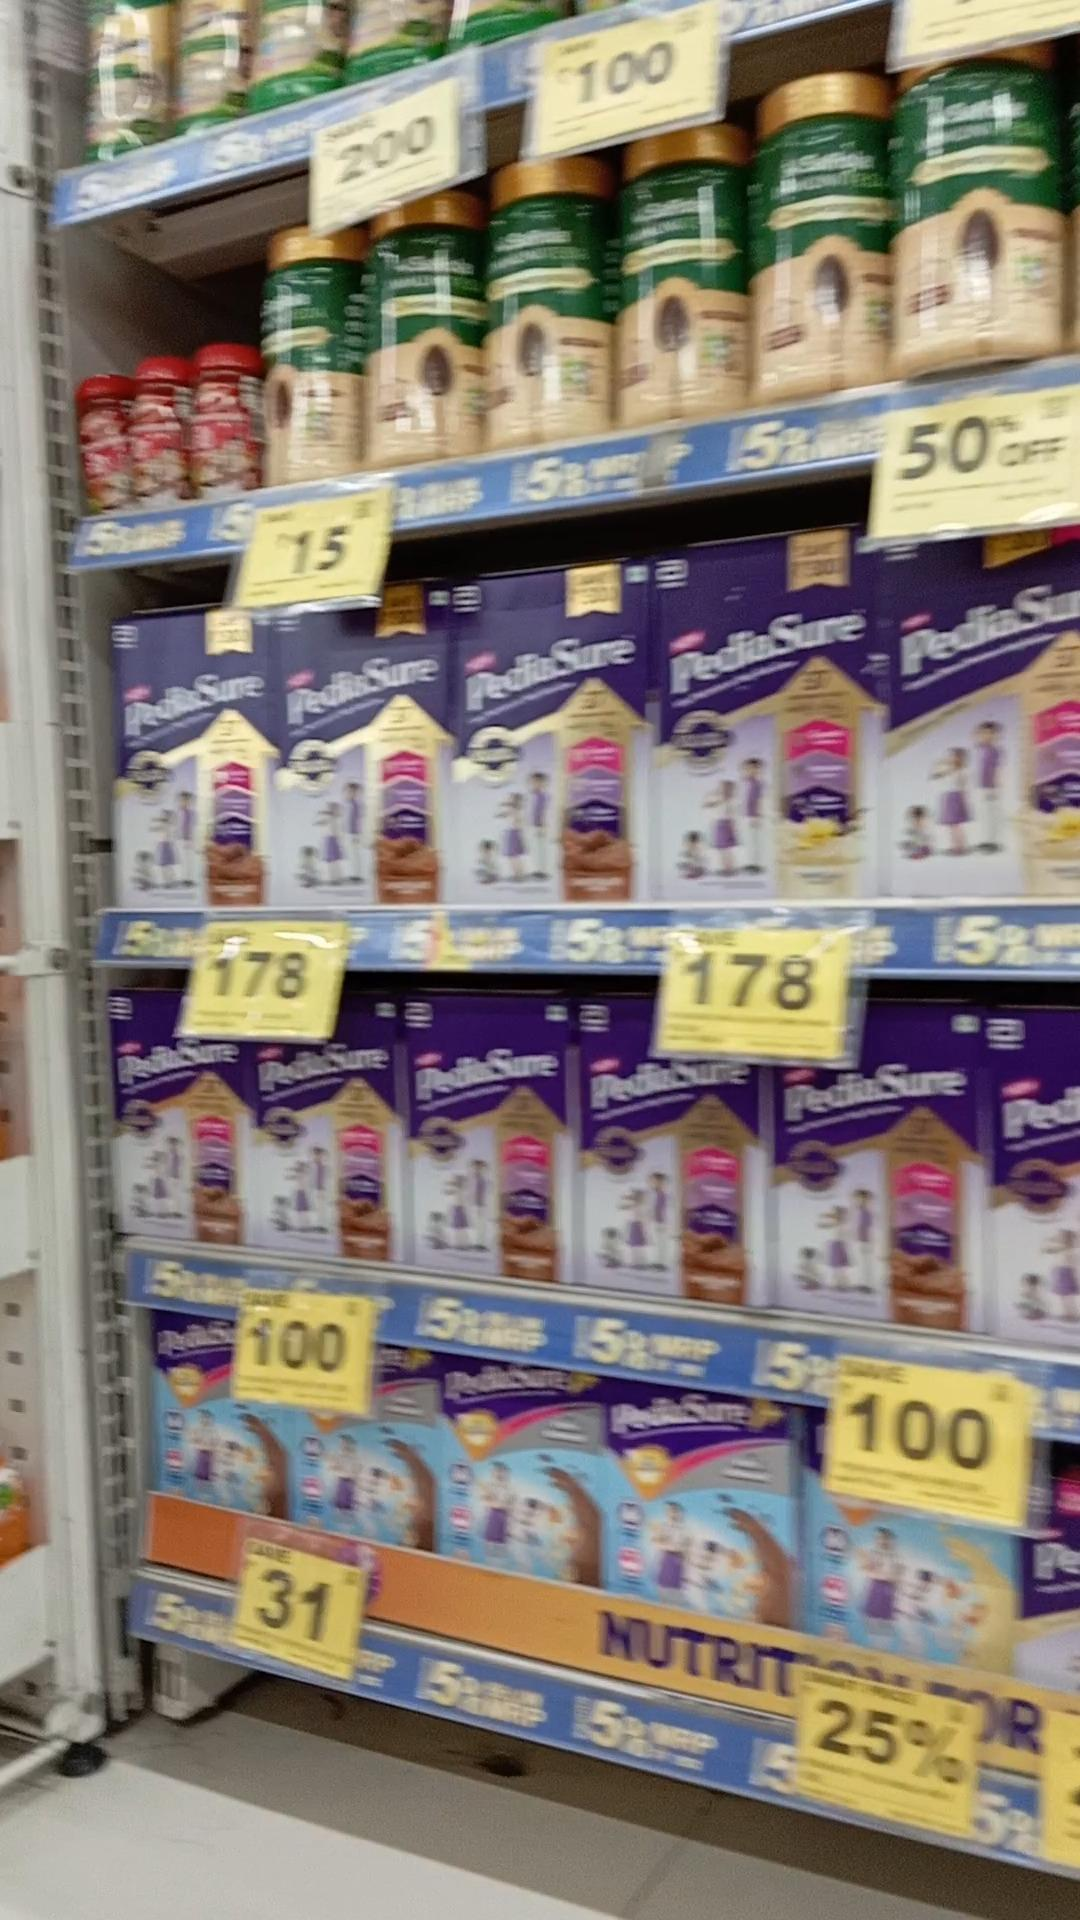PEDIASURE_7_PLUS_CHOCOLATE_400_G_PACK: (605, 1391, 779, 1617), (436, 1364, 596, 1592), (138, 1321, 273, 1495), (287, 1416, 430, 1531)
PEDIASURE_CHOCOLATE_500_G_PACK: (454, 560, 636, 909), (769, 1019, 951, 1312), (274, 607, 443, 914), (115, 620, 272, 906), (571, 1006, 740, 1255), (401, 998, 551, 1270), (248, 1004, 392, 1257), (108, 990, 240, 1238)
PEDIASURE_VANILLA_500_G_PACK: (654, 525, 861, 894), (889, 524, 1080, 897)
